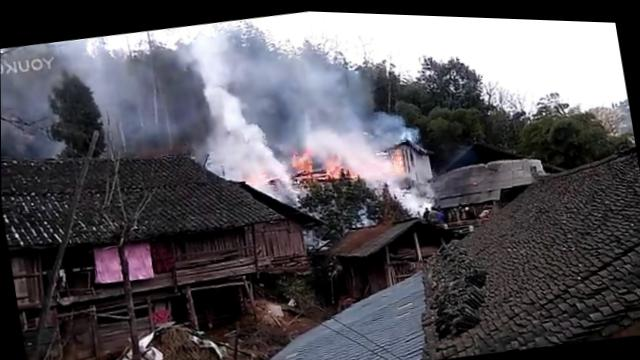fire: (291, 147, 314, 168), (326, 155, 342, 175)
